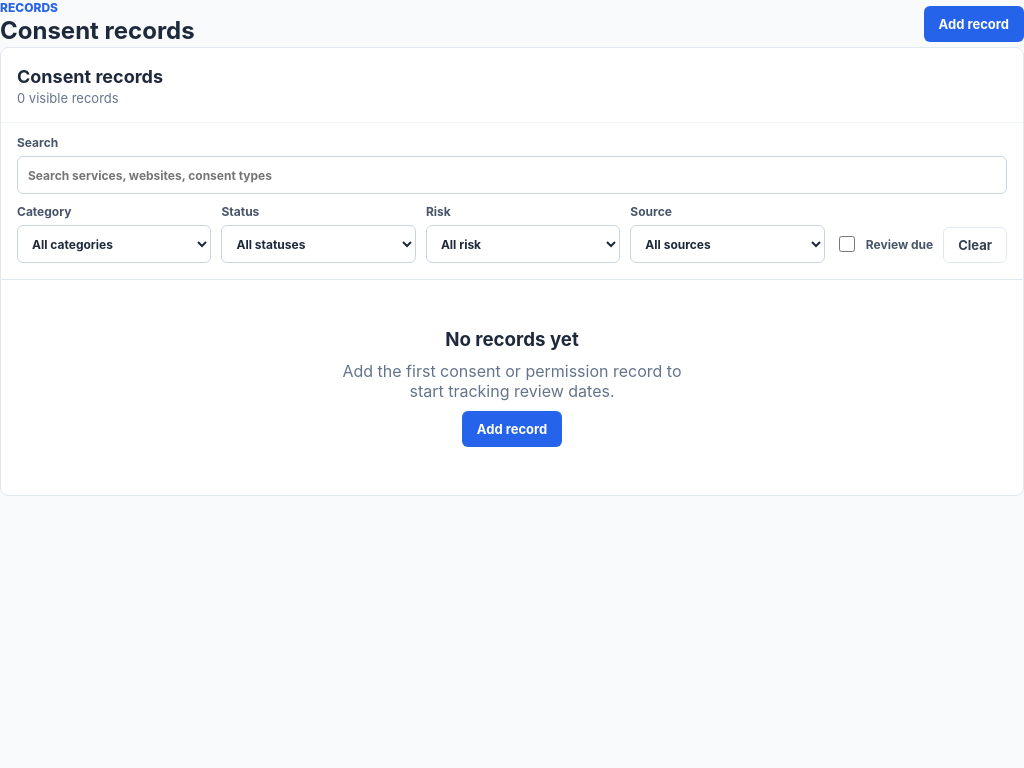
Scenario: record modal and CRUD › creates a record, closes the modal and shows a notice
The width and height of the screenshot is (1024, 768).
Click the 1st button "Add record". click: (974, 24)
box: [924,6,1023,42]
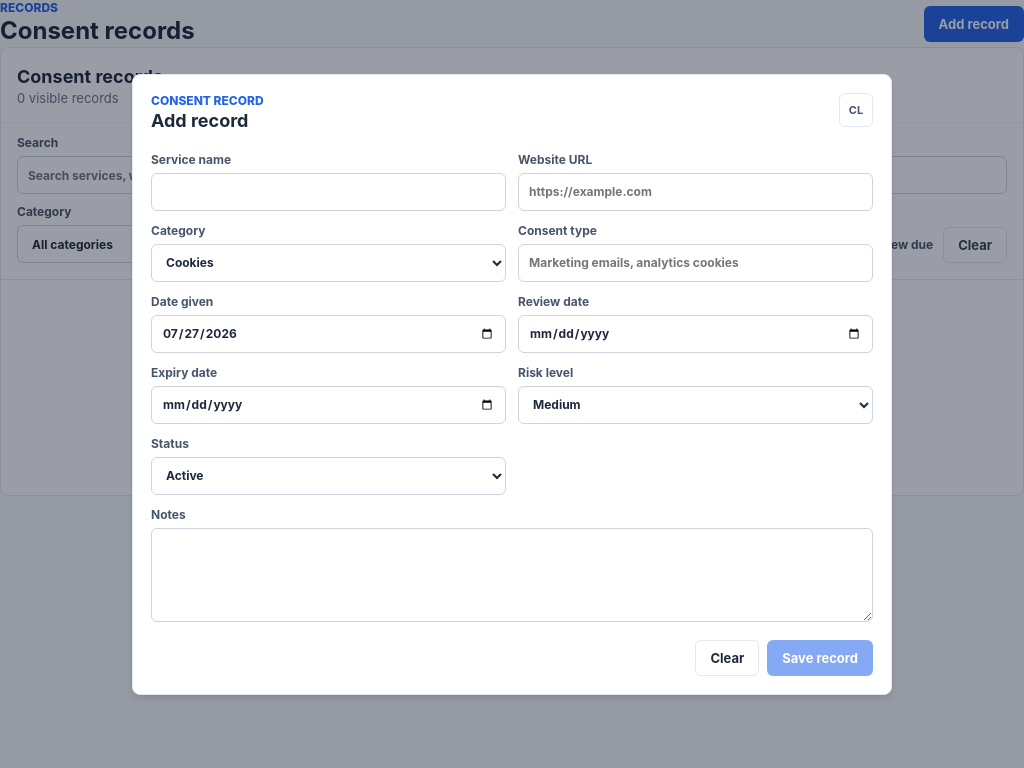
Type "Acme" into the field labelled "Service name". click: (328, 192)
box: [151,172,506,210]
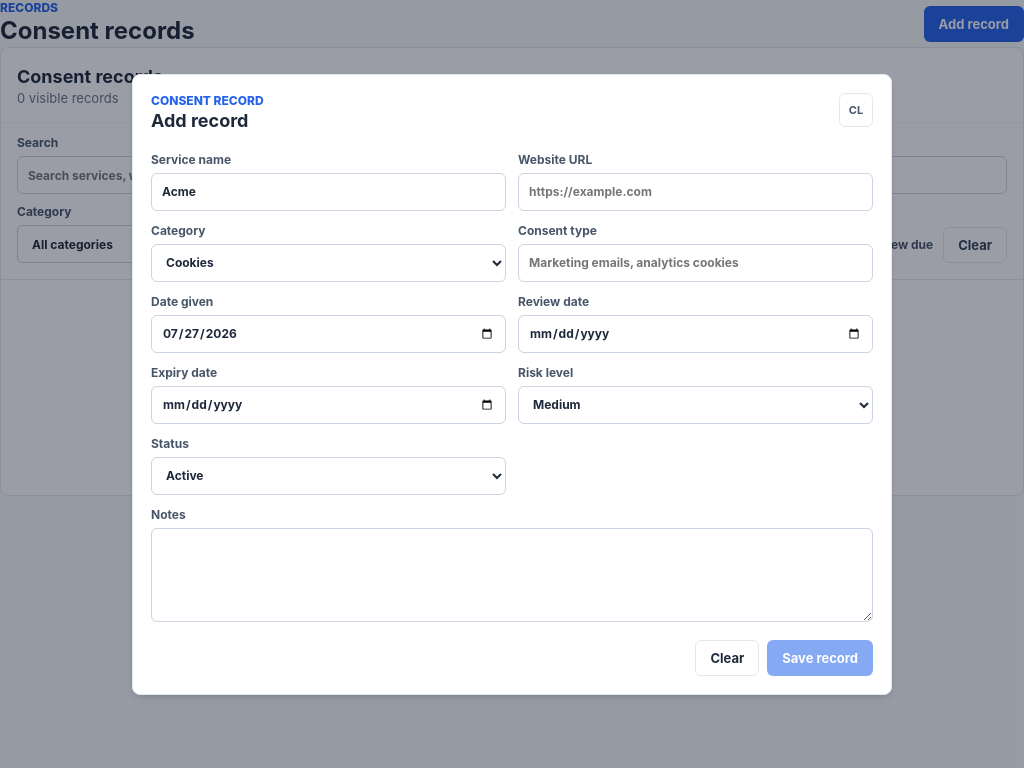
Type "https://acme.example" into the field labelled "Website URL". click: (696, 192)
box: [518,172,873,210]
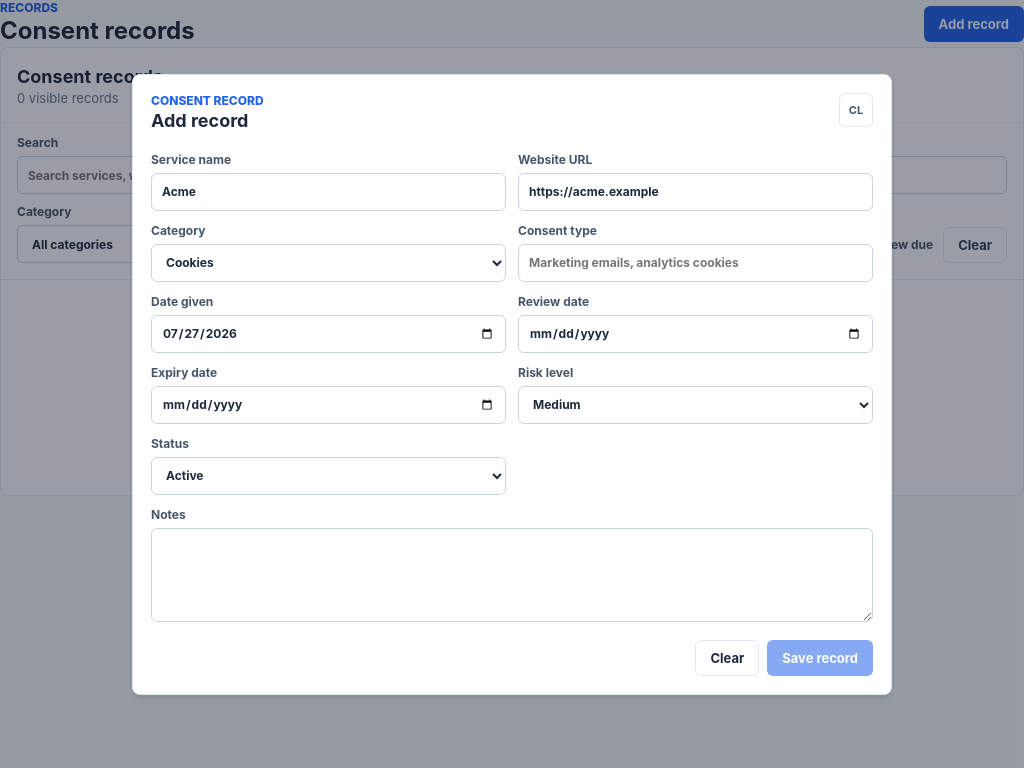
Type "cookies" into the field labelled "Consent type". click: (696, 262)
box: [518,244,873,282]
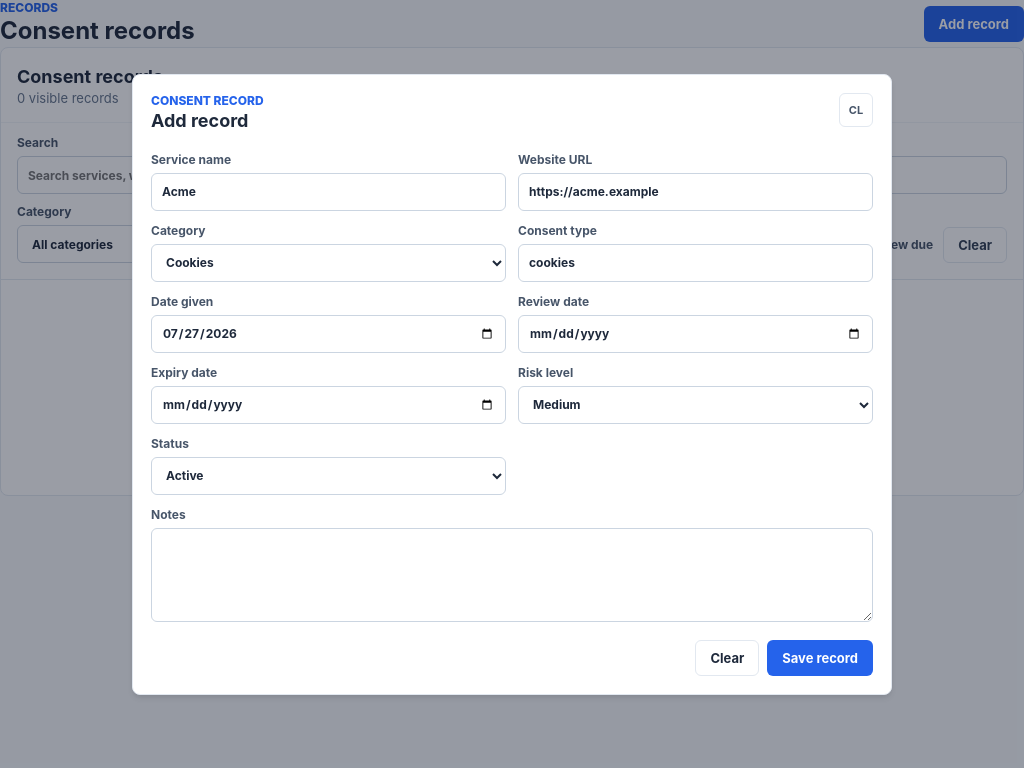
Click the button "Save record". click: (820, 658)
box: [767,640,873,676]
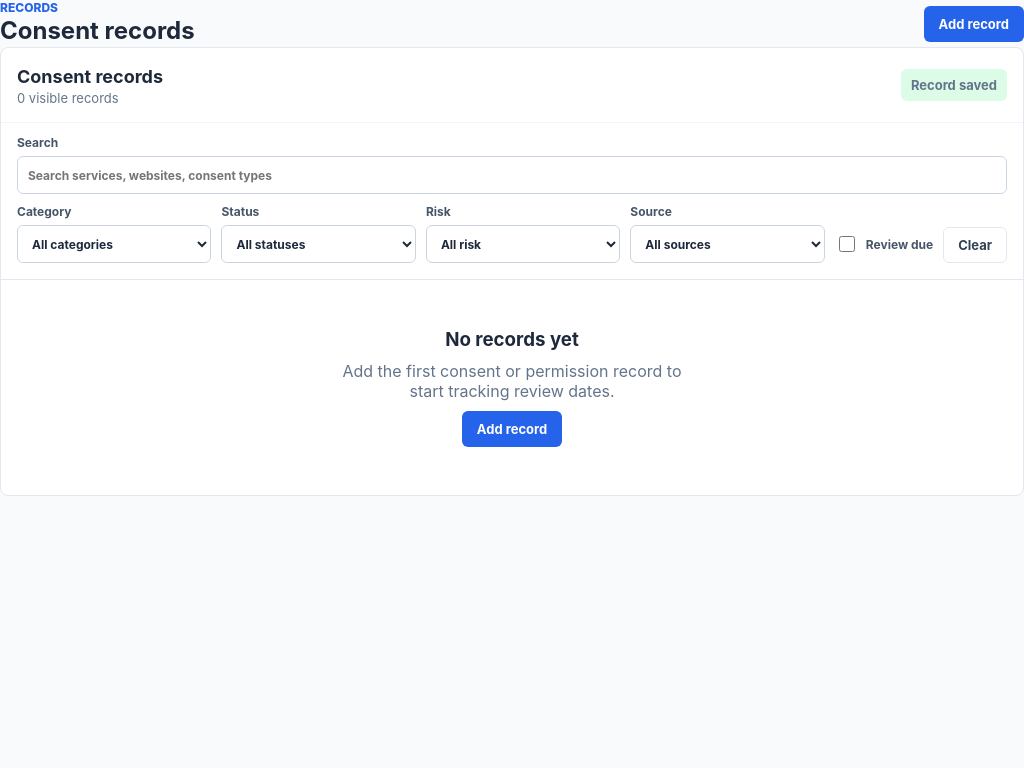
Now the text "Record saved" is shown, box [901,69,1007,101]
Now the button "Save record" is gone
